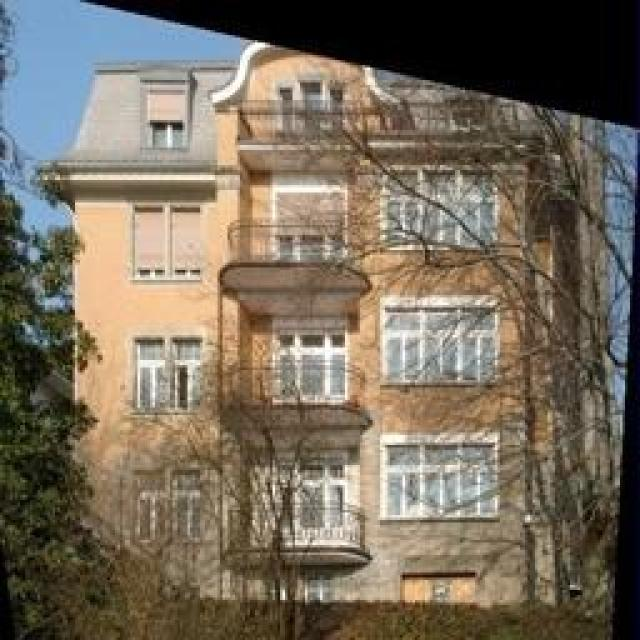building: (55, 60, 605, 640)
